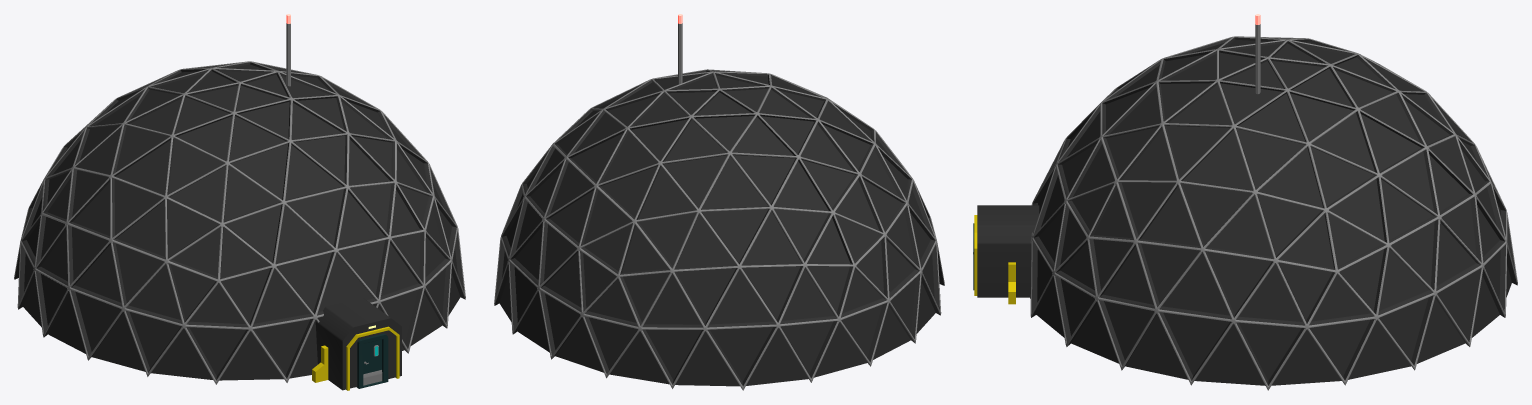
Rendered from facilityDome.fbx.
3 views of the same model, side by side, from view 1: azimuth 30°, elevation 25°; view 2: azimuth 150°, elevation 25°; view 3: azimuth 270°, elevation 25° (orthographic). The views are drawn at different scales.
Parts seen in each view (by area): view 1: Icosphere.003; view 2: Icosphere.003; view 3: Icosphere.003.
Boxes of the visible parts, <box> form: Icosphere.003: <box>14,14,465,390</box>; Icosphere.003: <box>494,14,944,390</box>; Icosphere.003: <box>973,14,1517,390</box>.
Bounding box in the file's own units: 1854 × 1205 × 2023.
